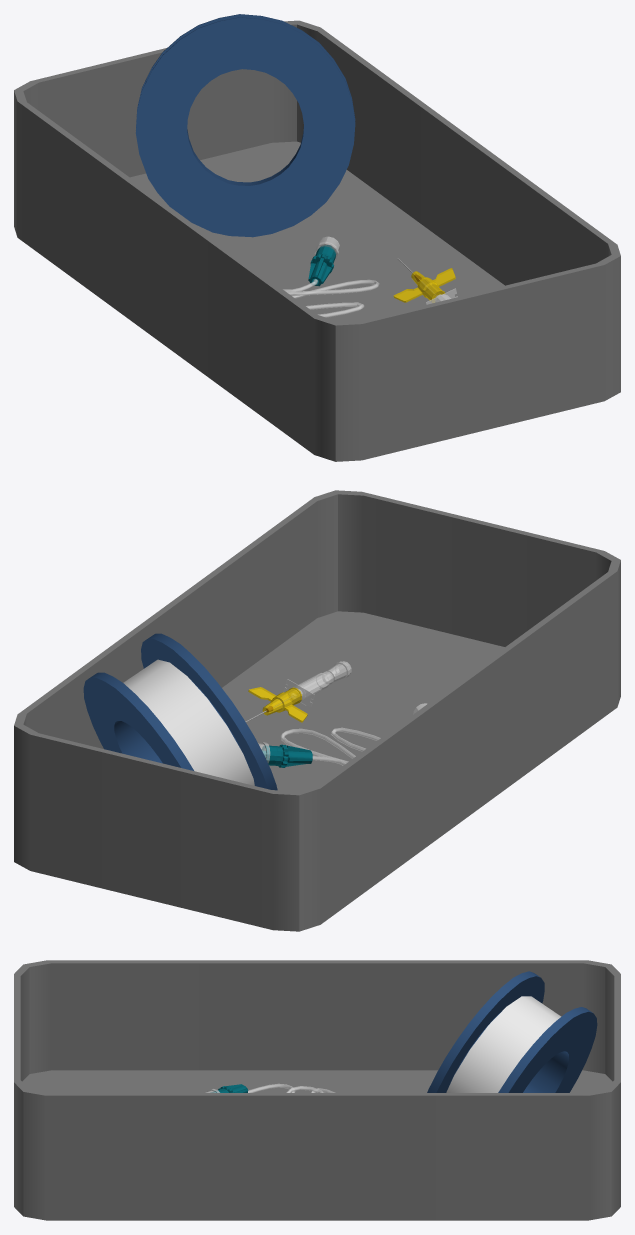
The model's file is hopdatkimtruyen.fbx.
3 views of the same model, one above another, from view 1: azimuth 30°, elevation 25°; view 2: azimuth 150°, elevation 25°; view 3: azimuth 270°, elevation 25° (orthographic). The views are drawn at different scales.
Visible parts, largest first — view 1: hop, bangdinh, pasted__pCylinder1, pasted__ongvang1, pasted__daunoi1; view 2: hop, bangdinh, pasted__pCylinder1, pasted__daukimtrang1, pasted__ongvang1, pasted__daunoi1; view 3: hop, bangdinh, pasted__pCylinder1.
Part boxes in pixels (<box>): hop: <box>14,20,620,461</box>; bangdinh: <box>135,14,355,237</box>; pasted__pCylinder1: <box>283,279,379,317</box>; pasted__ongvang1: <box>393,268,455,302</box>; pasted__daunoi1: <box>308,245,336,286</box>; hop: <box>14,490,620,931</box>; bangdinh: <box>83,633,277,790</box>; pasted__pCylinder1: <box>280,727,380,765</box>; pasted__daukimtrang1: <box>283,661,351,706</box>; pasted__ongvang1: <box>248,687,307,722</box>; pasted__daunoi1: <box>261,744,312,767</box>; hop: <box>14,960,620,1220</box>; bangdinh: <box>427,971,597,1092</box>; pasted__pCylinder1: <box>248,1083,335,1092</box>.
Bounding box in the file's own units: 3.67 × 2.46 × 6.96.
